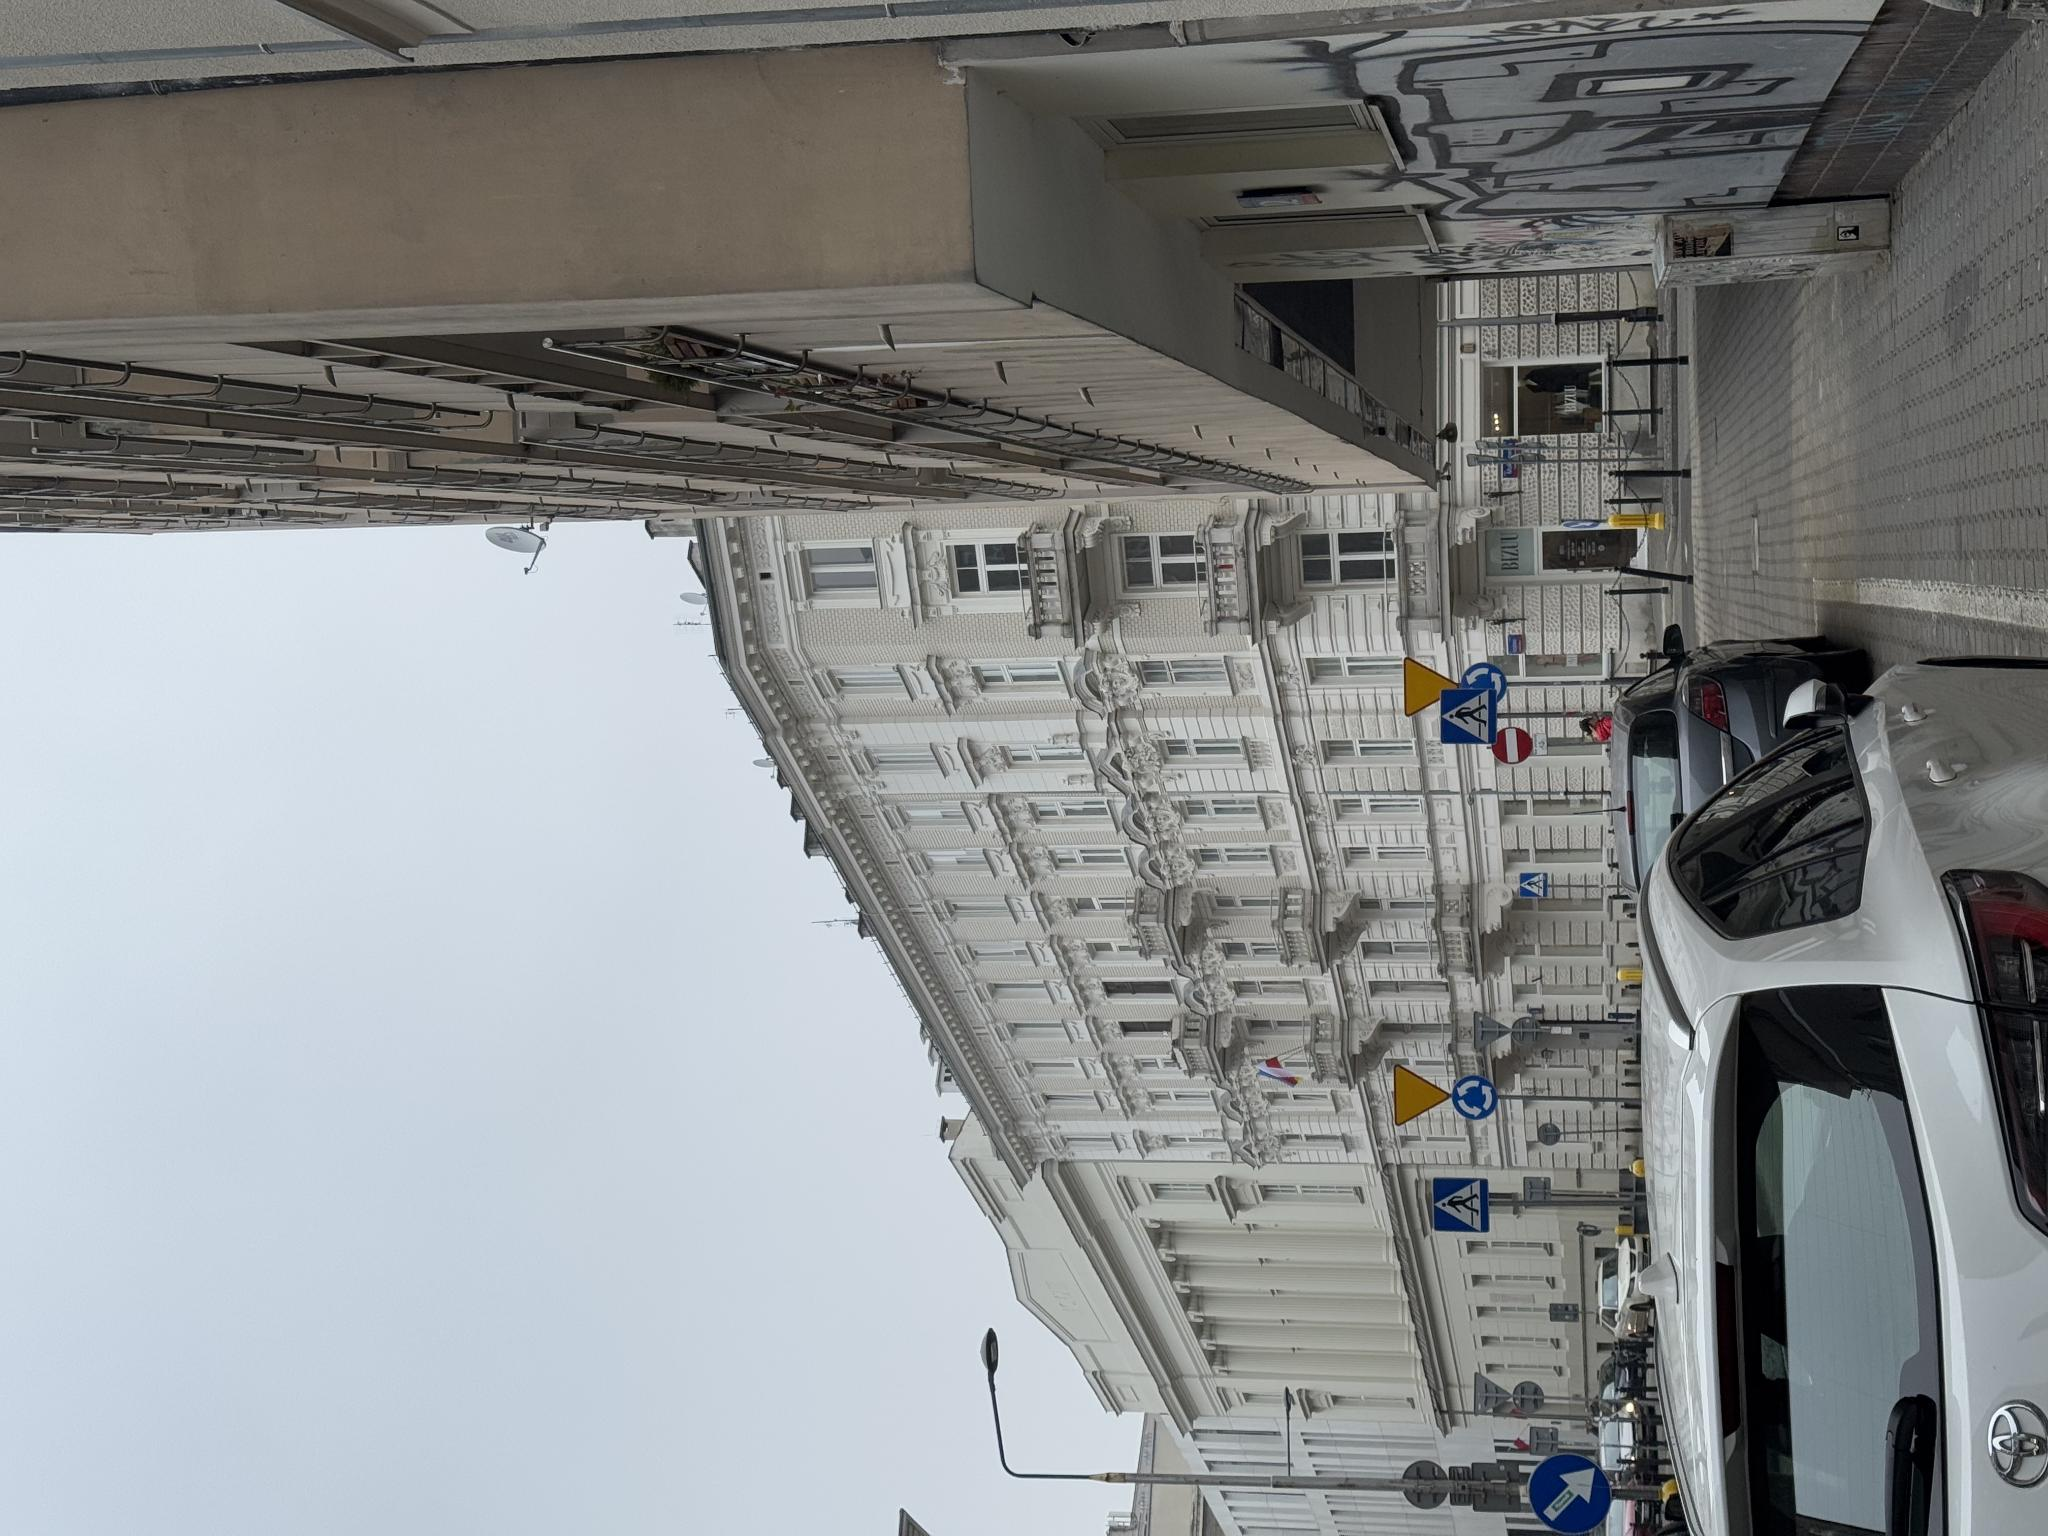information: (792, 1439, 847, 1497), (303, 1433, 356, 1489), (639, 1518, 663, 1536)
mandatory: (414, 1450, 463, 1497), (847, 1459, 876, 1507)
prohibitory: (771, 1491, 810, 1533)
warning: (410, 1392, 474, 1452), (819, 1404, 879, 1459)
